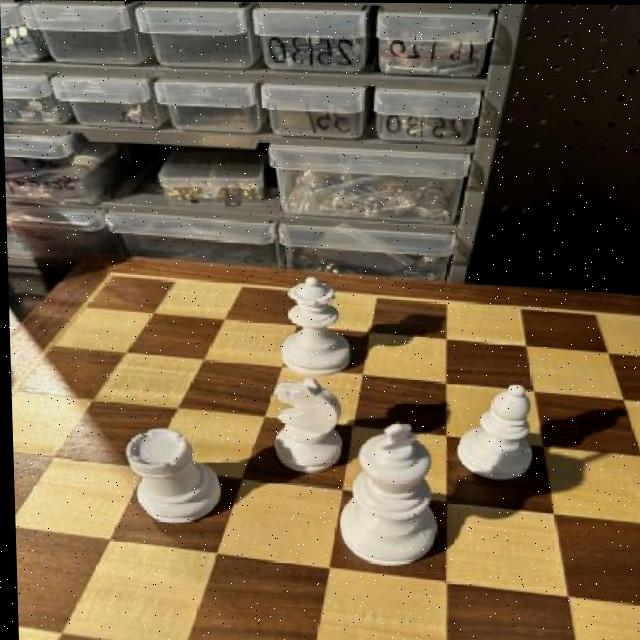black-rook: (447, 367, 539, 490)
white-bishop: (325, 419, 441, 571)
white-king: (261, 377, 345, 478)
white-pawn: (268, 274, 353, 379)
white-queen: (123, 416, 221, 534)
